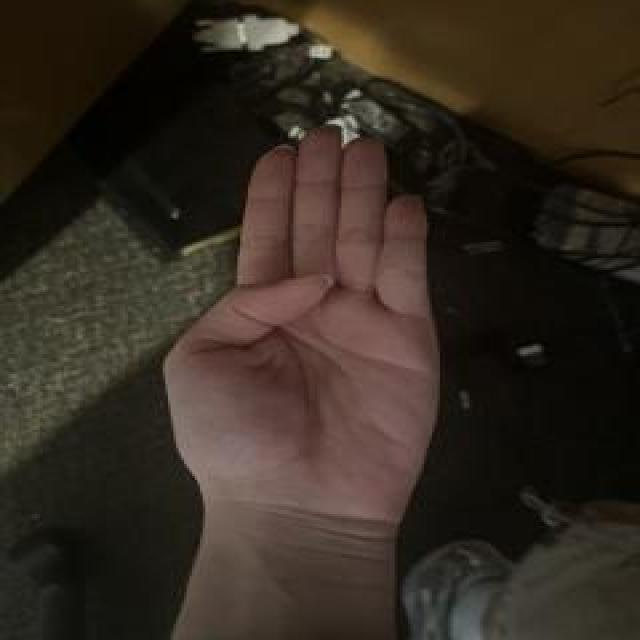B: (152, 113, 453, 533)
